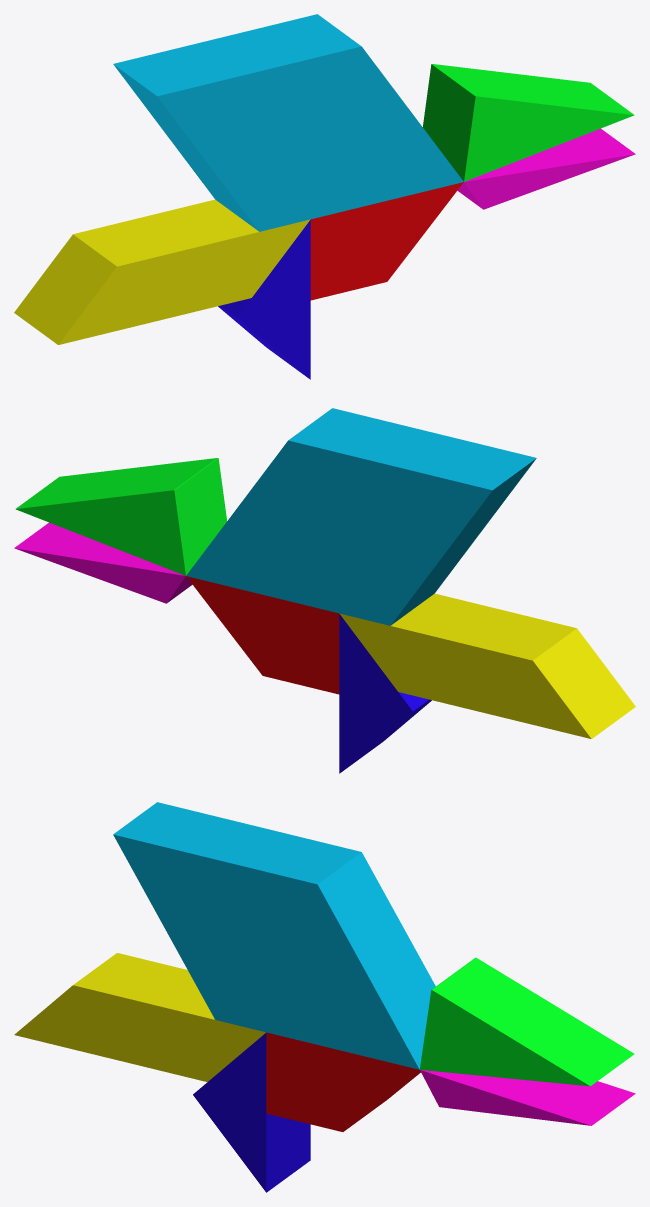
File: personaje.fbx
The picture shows the model from 3 angles, top to bottom: view 1: azimuth 30°, elevation 25°; view 2: azimuth 150°, elevation 25°; view 3: azimuth 330°, elevation 25°; orthographic projection.
Parts seen in each view (by area): view 1: Alas, Cola, Cabeza arriba, Cuerpo, Patas, Cabeza abajo; view 2: Alas, Cola, Cabeza arriba, Cuerpo, Patas, Cabeza abajo; view 3: Alas, Cola, Cabeza arriba, Cuerpo, Patas, Cabeza abajo.
Boxes of the visible parts, bbox=[...] form: Alas: bbox=[113, 14, 463, 231]; Cola: bbox=[14, 199, 310, 344]; Cabeza arriba: bbox=[423, 64, 634, 181]; Cuerpo: bbox=[310, 182, 463, 300]; Patas: bbox=[218, 220, 310, 379]; Cabeza abajo: bbox=[457, 128, 635, 209]; Alas: bbox=[186, 408, 536, 625]; Cola: bbox=[339, 593, 635, 738]; Cabeza arriba: bbox=[15, 458, 226, 575]; Cuerpo: bbox=[186, 576, 339, 694]; Patas: bbox=[339, 614, 431, 773]; Cabeza abajo: bbox=[14, 522, 192, 603]; Alas: bbox=[113, 802, 435, 1069]; Cola: bbox=[14, 953, 265, 1081]; Cabeza arriba: bbox=[419, 957, 634, 1086]; Cuerpo: bbox=[266, 1032, 420, 1131]; Patas: bbox=[193, 1033, 310, 1192]; Cabeza abajo: bbox=[420, 1070, 635, 1125].
Bounding box in the file's own units: 75.35 × 40 × 10.
